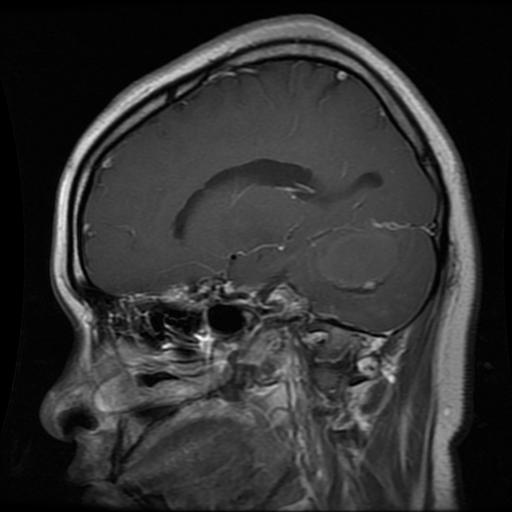Gliomia_tumour: (315, 226, 402, 294)
